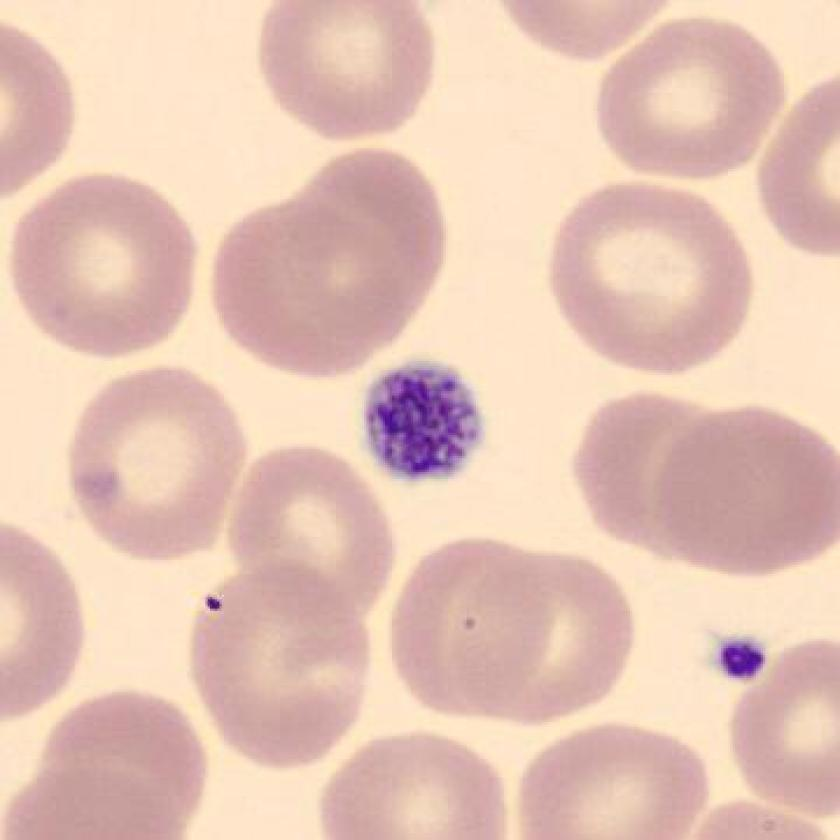platelets: (347, 346, 501, 492), (694, 617, 776, 698)
